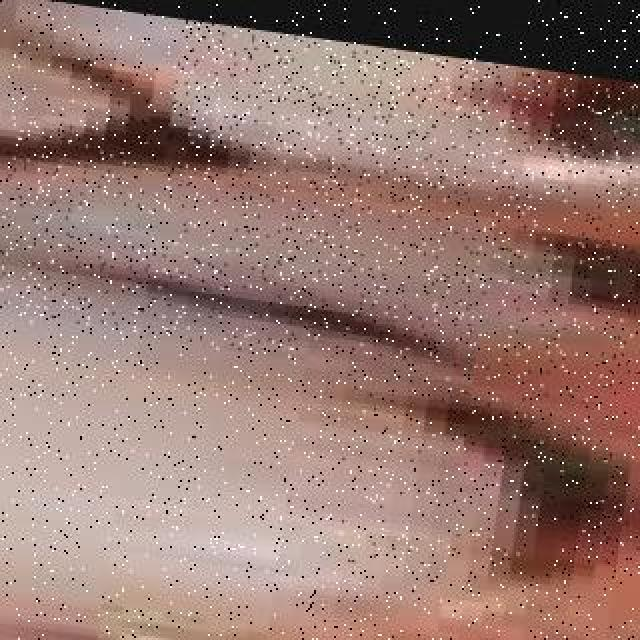cavities: (202, 344, 640, 640), (378, 208, 640, 366), (418, 58, 640, 224)
maligned: (0, 122, 640, 384), (0, 0, 92, 176)
